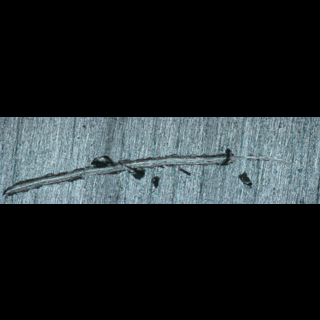d: (1, 146, 311, 198)
